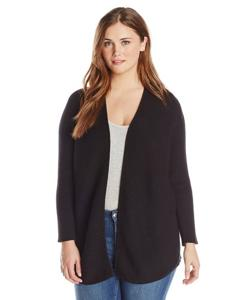S_cardigan sweater: (51, 90, 200, 280)
